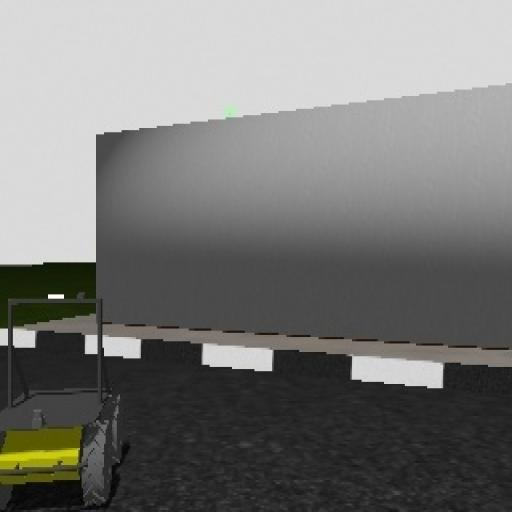huskya200: (2, 286, 126, 510)
